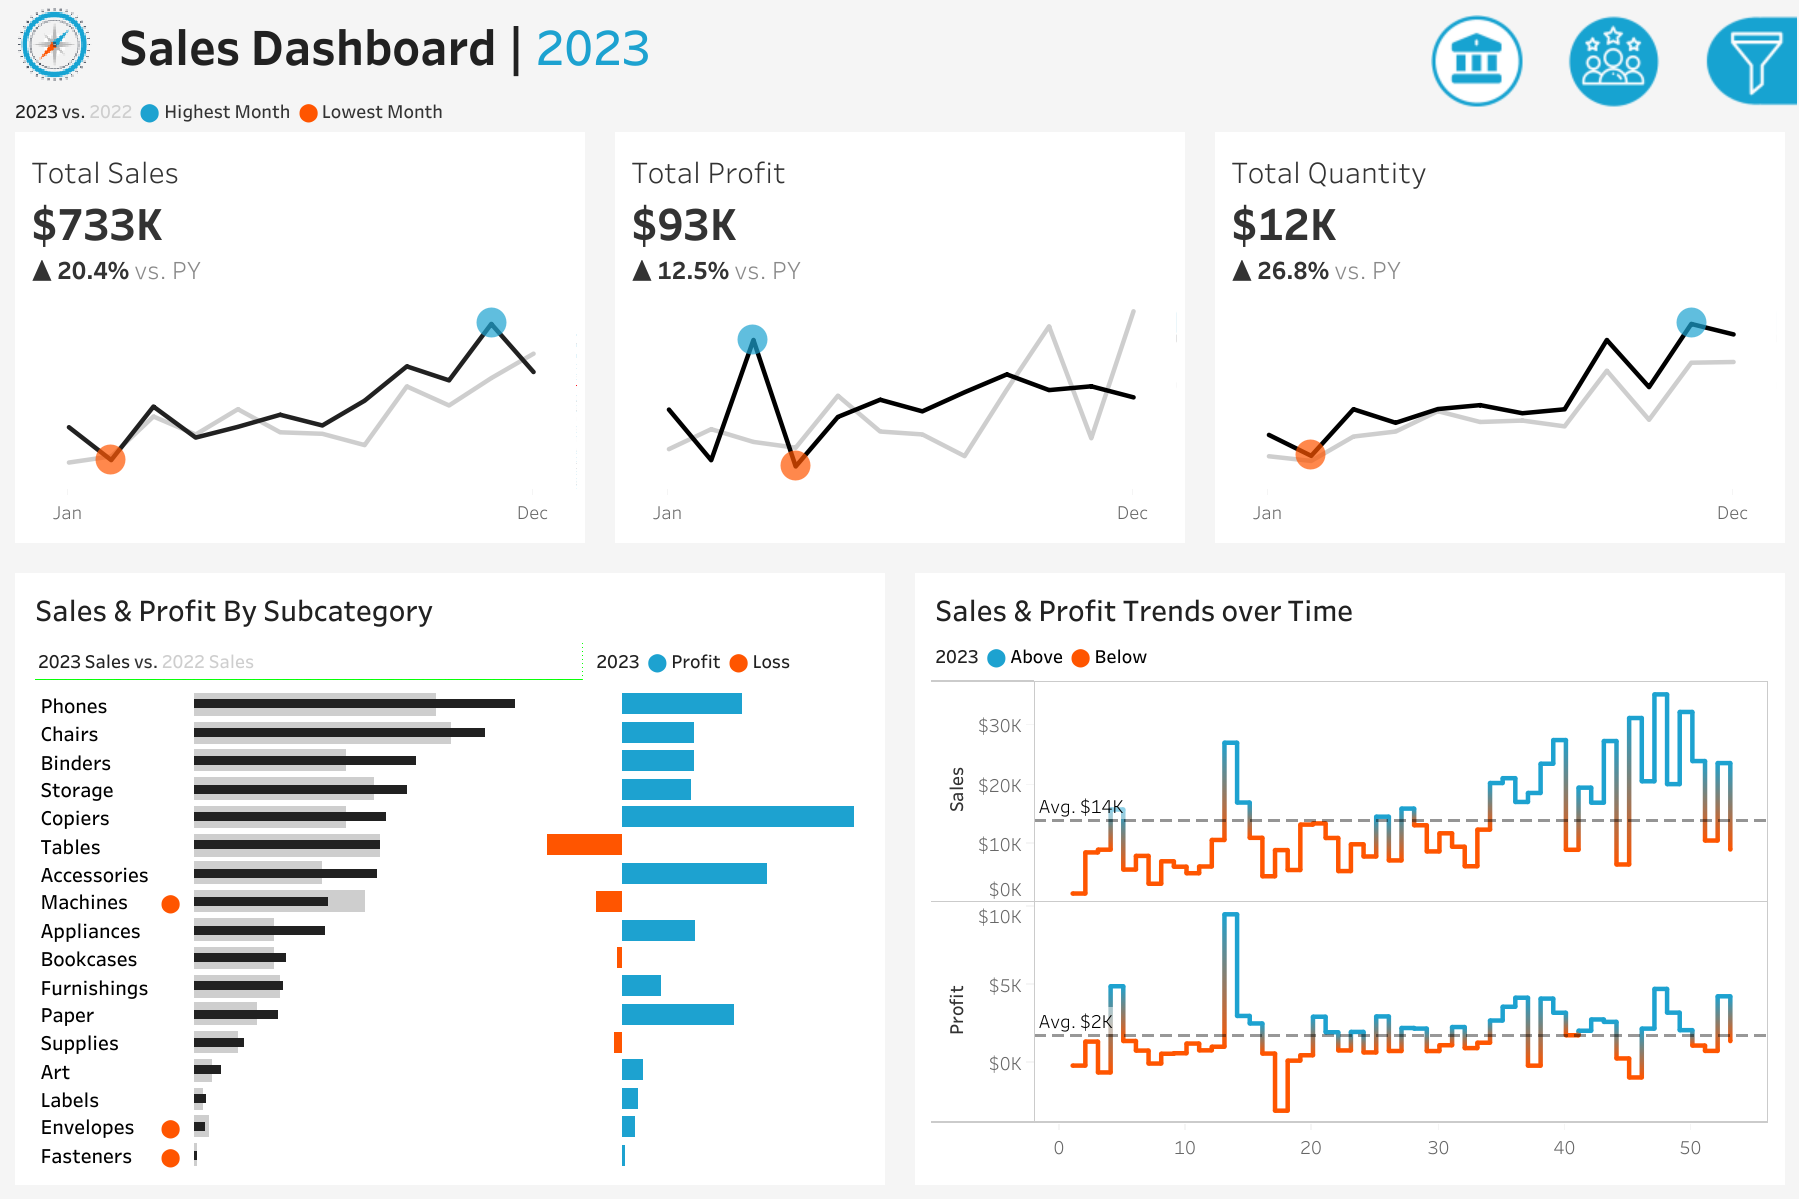

The dashboard page shown, as its layout file describes it:
{"tool":"tableau","page":{"name":"Sales Dashboard","canvas":[1200,800],"ordinal":1},"visuals":[{"type":"image","param":"Image/Icon - Logo.png","box":[0,0,73,59]},{"type":"text","box":[73,0,820,59]},{"type":"dashboard-object","box":[940,6,91,70]},{"type":"dashboard-object","box":[1031,6,91,70]},{"type":"blank","box":[952,10,237,86]},{"type":"worksheet","title":"Legend KPI","mark":"Automatic","box":[0,59,1200,29]},{"type":"worksheet","title":"KPI Sales","mark":"Automatic","rows":["Calculation_721701895347843083"],"cols":["Order Date"],"box":[0,88,400,284]},{"type":"worksheet","title":"KPI Profit","mark":"Automatic","rows":["Min/Max Sales (copy)_237846410425847814"],"cols":["Order Date"],"box":[400,88,400,284]},{"type":"worksheet","title":"KPI Quantity","mark":"Automatic","rows":["Min/Max Sales (copy) (copy)_237846410425856007"],"cols":["Order Date"],"box":[800,88,400,284]},{"type":"text","box":[952,96,237,37]},{"type":"parameter","param":"[Parameters].[Parameter 1]","box":[952,133,237,55]},{"type":"text","box":[952,188,237,32]},{"type":"filter","title":"KPI Sales","param":"[federated.1kpxa041aiai2y1cl4pui1t4eju9].[none:Category:nk]","box":[952,220,237,57]},{"type":"filter","title":"KPI Sales","param":"[federated.1kpxa041aiai2y1cl4pui1t4eju9].[none:Sub-Category:nk]","box":[952,277,237,57]},{"type":"blank","box":[952,334,237,60]},{"type":"text","box":[17,389,566,47]},{"type":"text","box":[617,389,566,47]},{"type":"text","box":[952,394,237,32]},{"type":"filter","title":"KPI Sales","param":"[federated.1kpxa041aiai2y1cl4pui1t4eju9].[none:Region:nk]","box":[952,426,237,57]},{"type":"worksheet","title":"Legend Subcategory","mark":"Automatic","box":[17,436,374,32]},{"type":"text","box":[391,436,192,32]},{"type":"text","box":[617,436,566,33]},{"type":"worksheet","title":"Subcategory Comparison","mark":"Bar","rows":["Sub-Category","Calculation_2435040078806671369"],"cols":["CY Sales (copy)_721701895335804930","Calculation_721701895334993921","CY Sales (copy)_237846410424180736"],"box":[17,468,566,315]},{"type":"worksheet","title":"Weekly Trends","mark":"Automatic","rows":["Calculation_721701895334993921","CY Sales (copy)_237846410424180736"],"cols":["Order Date"],"box":[617,469,566,314]},{"type":"filter","title":"KPI Sales","param":"[federated.1kpxa041aiai2y1cl4pui1t4eju9].[none:State:nk]","box":[952,483,237,57]},{"type":"filter","title":"KPI Sales","param":"[federated.1kpxa041aiai2y1cl4pui1t4eju9].[none:City:nk]","box":[952,540,237,57]}]}

Visuals, with their boxes in screenshot pixels (x1, y1, x2, y2), scaled from the page's 1200x800 canvas onto the 1799x1199 screenshot:
image: box=[0, 0, 109, 88]
text: box=[109, 0, 1339, 88]
dashboard-object: box=[1409, 9, 1546, 114]
dashboard-object: box=[1546, 9, 1682, 114]
blank: box=[1427, 15, 1783, 144]
"Legend KPI" worksheet: box=[0, 88, 1798, 132]
"KPI Sales" worksheet: box=[0, 132, 600, 558]
"KPI Profit" worksheet: box=[600, 132, 1199, 558]
"KPI Quantity" worksheet: box=[1199, 132, 1798, 558]
text: box=[1427, 144, 1783, 199]
parameter: box=[1427, 199, 1783, 282]
text: box=[1427, 282, 1783, 330]
"KPI Sales" filter: box=[1427, 330, 1783, 415]
"KPI Sales" filter: box=[1427, 415, 1783, 501]
blank: box=[1427, 501, 1783, 591]
text: box=[25, 583, 874, 653]
text: box=[925, 583, 1774, 653]
text: box=[1427, 591, 1783, 638]
"KPI Sales" filter: box=[1427, 638, 1783, 724]
"Legend Subcategory" worksheet: box=[25, 653, 586, 701]
text: box=[586, 653, 874, 701]
text: box=[925, 653, 1774, 703]
"Subcategory Comparison" worksheet (Bar marks): box=[25, 701, 874, 1174]
"Weekly Trends" worksheet: box=[925, 703, 1774, 1174]
"KPI Sales" filter: box=[1427, 724, 1783, 809]
"KPI Sales" filter: box=[1427, 809, 1783, 895]
